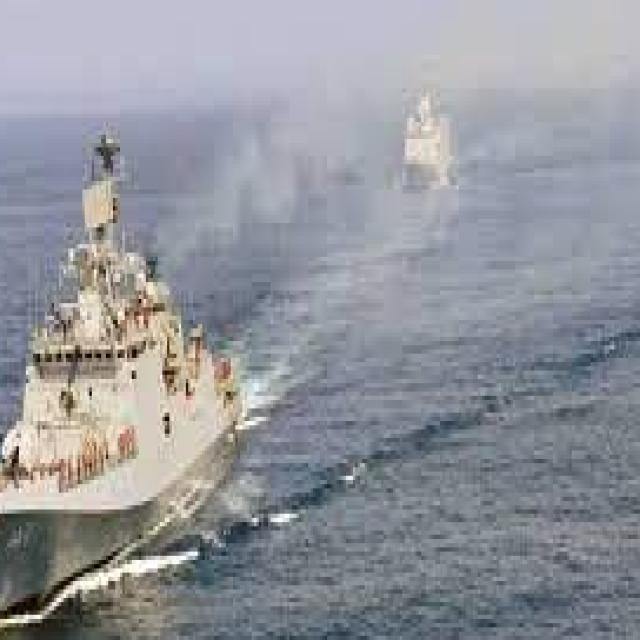navalvessels: (0, 126, 266, 619), (392, 74, 457, 184)
